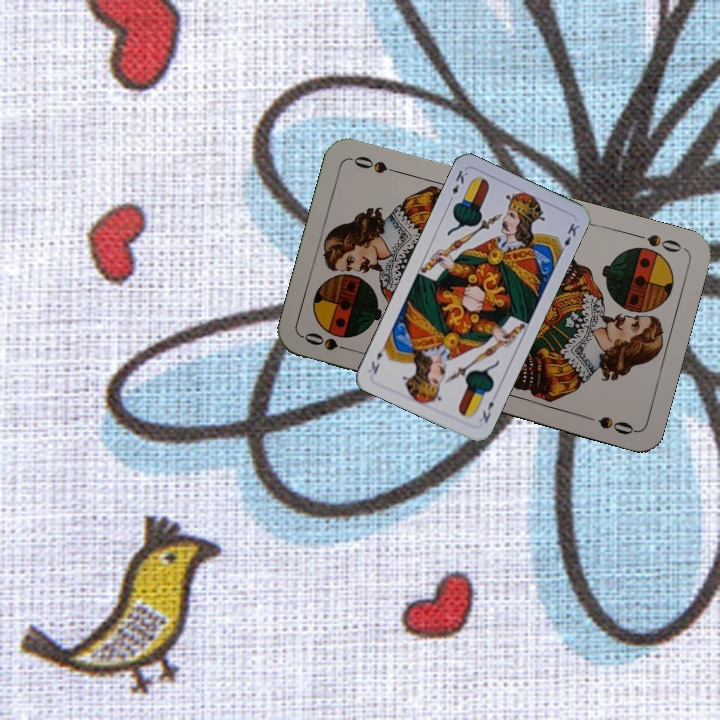EK: (445, 166, 471, 205), (478, 397, 496, 426)
SO: (300, 328, 358, 355), (629, 229, 687, 255)
